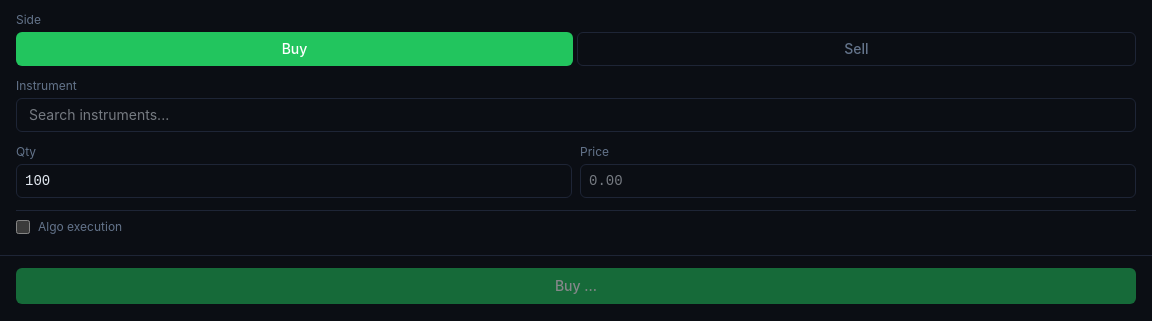
Scenario: TradeTicketInner › toggles the side from buy to sell via the side buttons
The image size is (1152, 321).
Click the button "Sell": (856, 49) [577,32,1136,66]
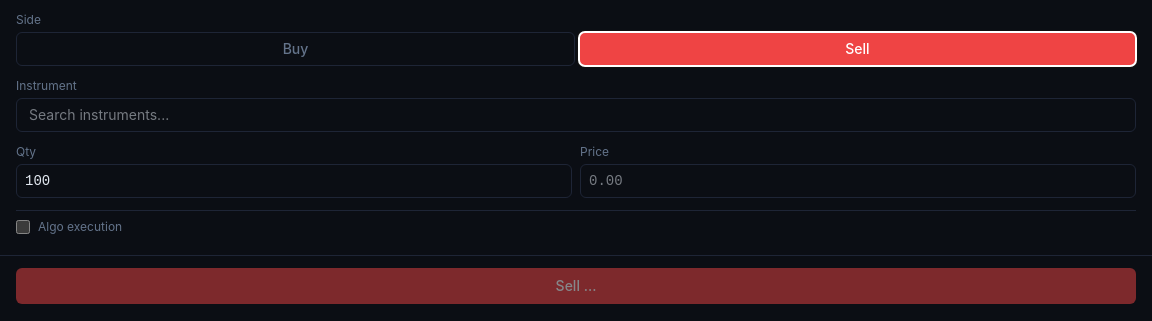
Result: the button "Sell ..." is shown at [16,268,1136,304]
